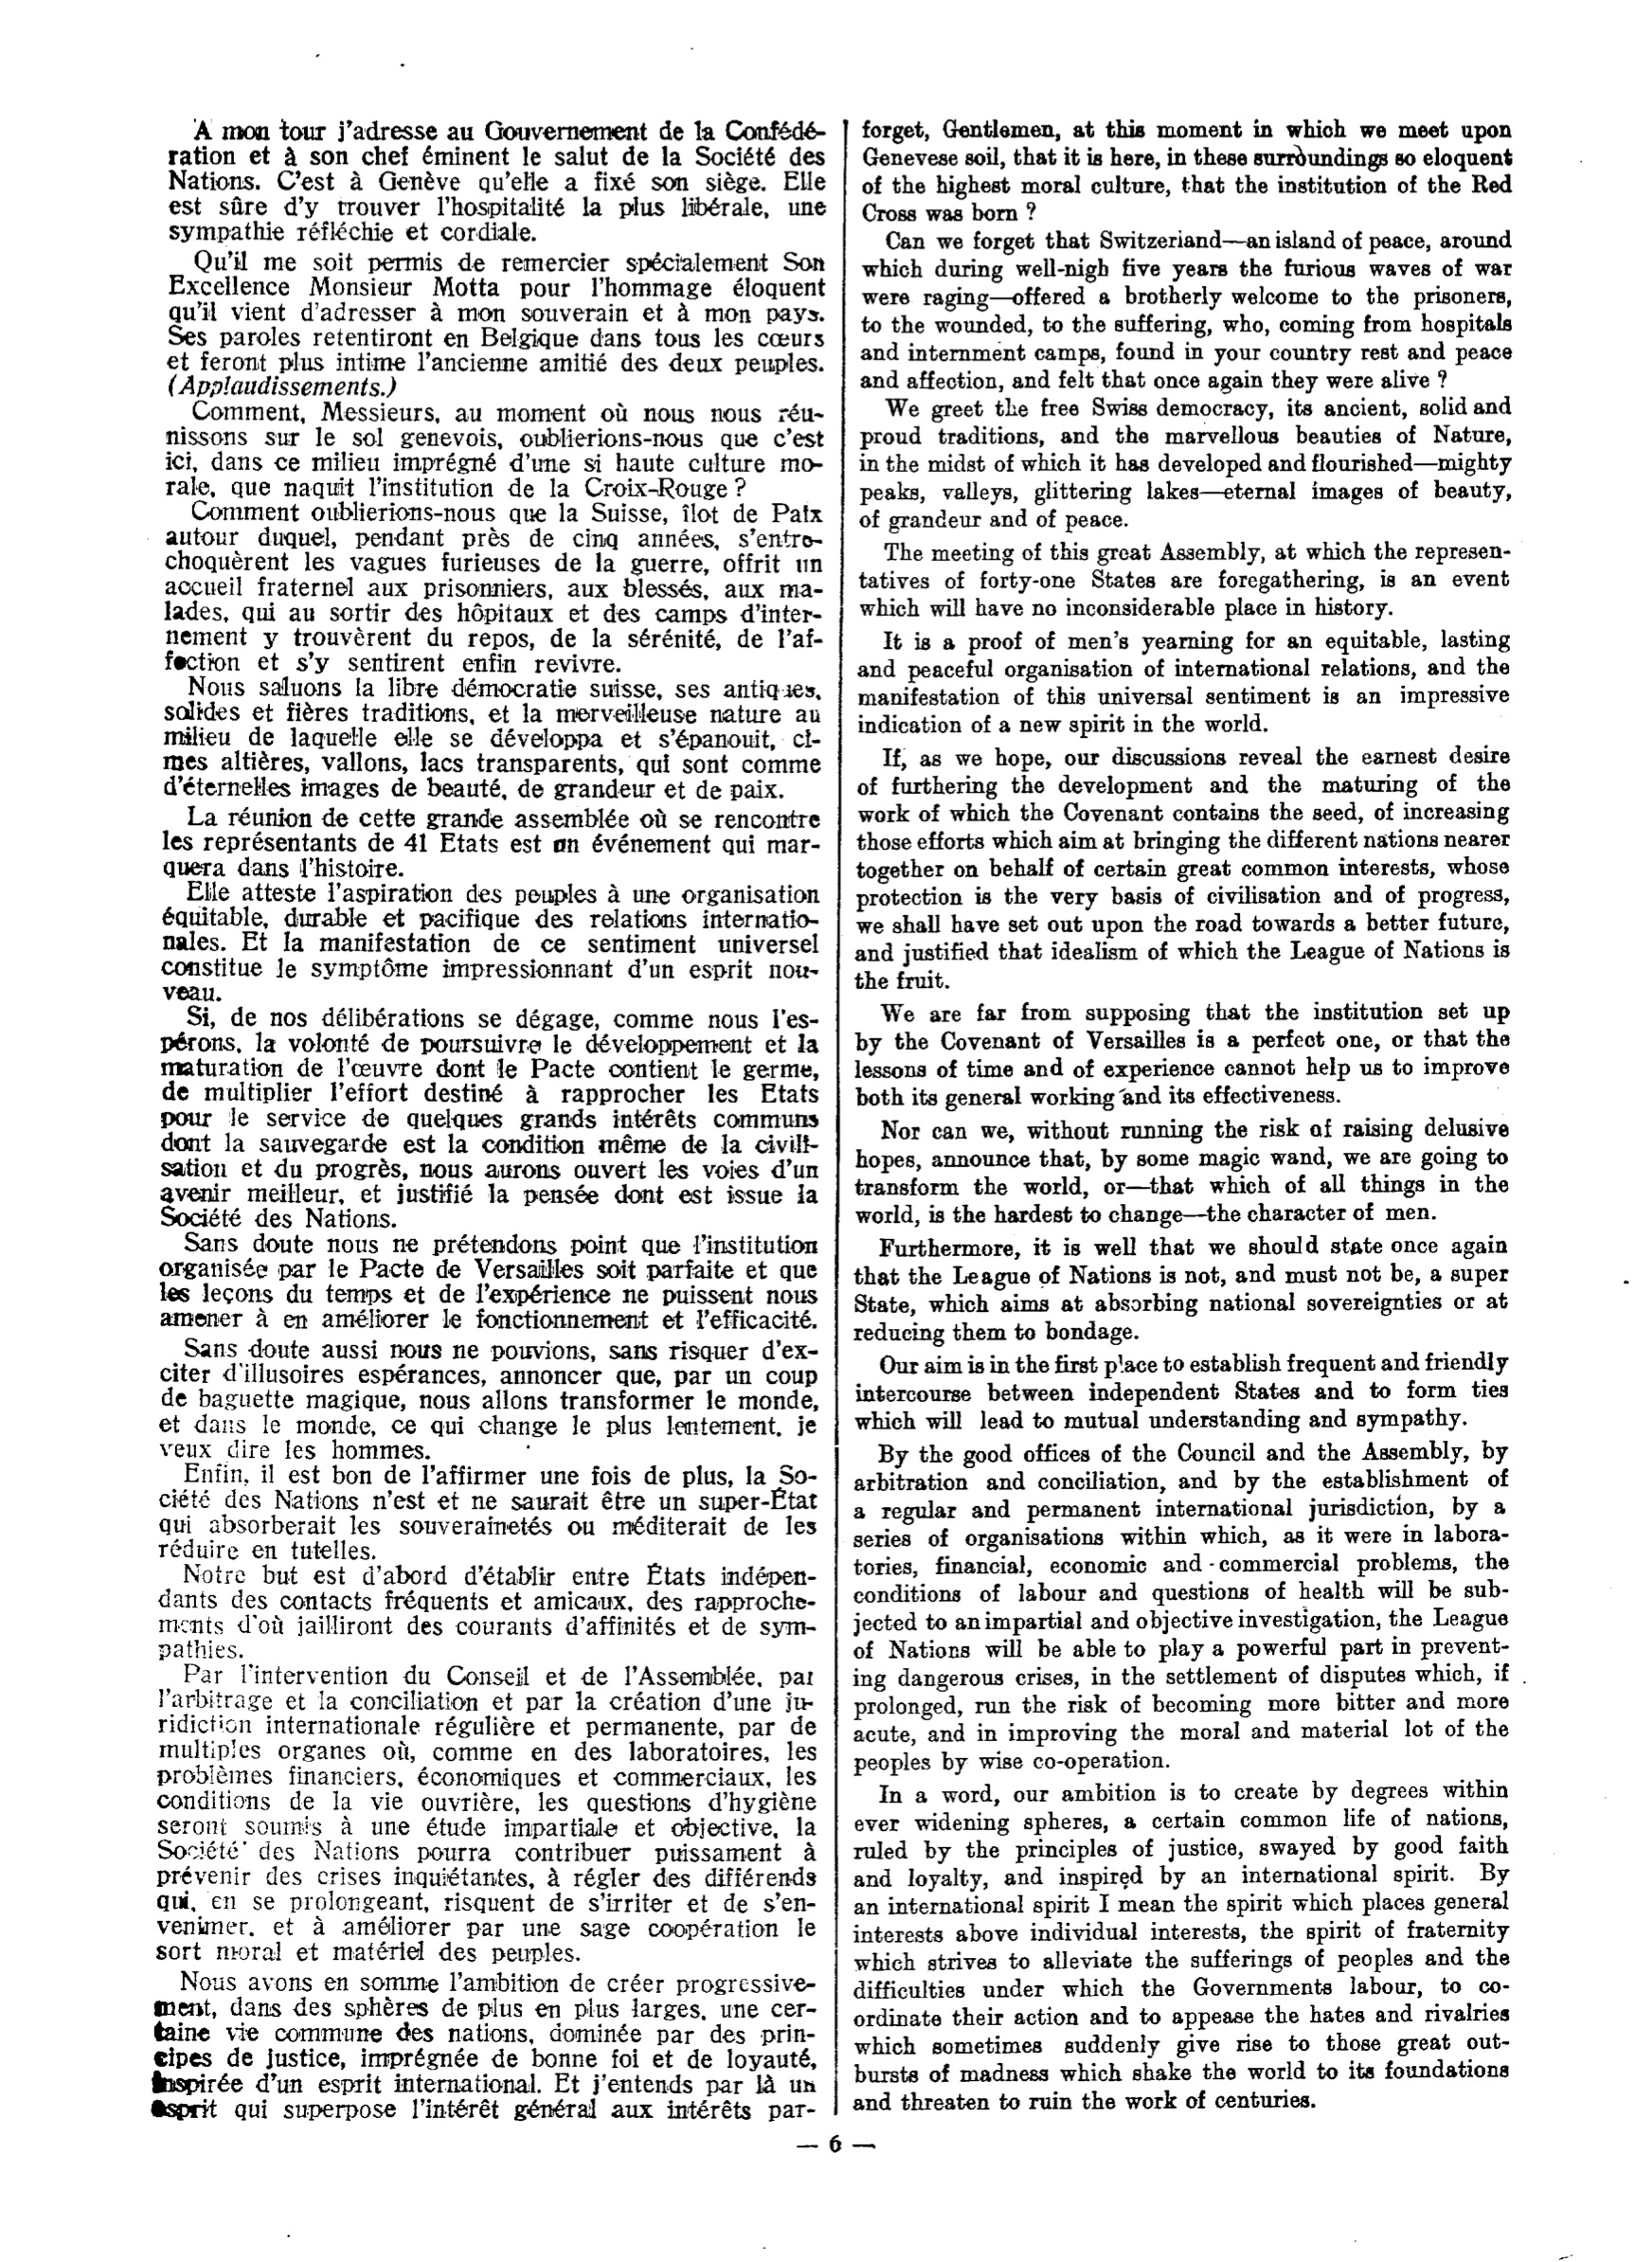MainZone-Continued: (855, 114, 1519, 225)
MainZone-P: (846, 1777, 1517, 2120), (846, 1438, 1517, 1777), (147, 1658, 823, 1965), (850, 741, 1517, 996), (151, 1003, 823, 1231), (158, 499, 829, 676), (853, 225, 1520, 393), (144, 1967, 822, 2129), (158, 246, 832, 400), (853, 393, 1520, 534), (158, 112, 829, 246), (156, 674, 827, 803), (149, 1335, 825, 1461), (154, 880, 823, 1005), (848, 1231, 1519, 1347), (848, 996, 1517, 1112), (848, 1113, 1517, 1229), (850, 625, 1519, 739), (151, 1231, 825, 1335), (149, 1461, 823, 1563), (151, 1561, 822, 1663), (156, 400, 830, 501), (851, 536, 1519, 623), (848, 1349, 1517, 1435), (156, 803, 827, 882)
NumberingZone: (792, 2129, 881, 2157)
